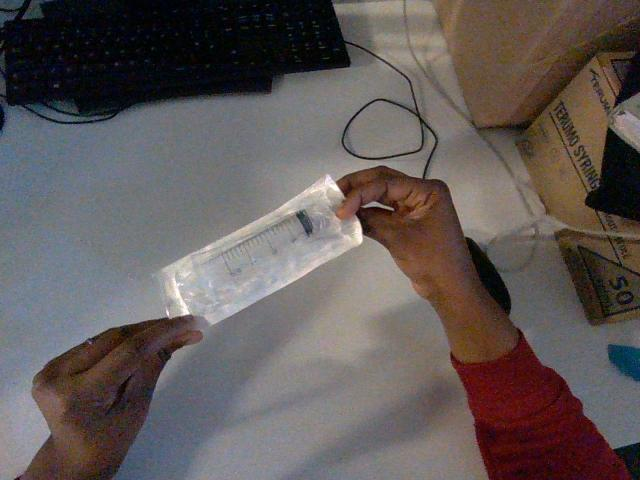syringe: (156, 175, 362, 323)
